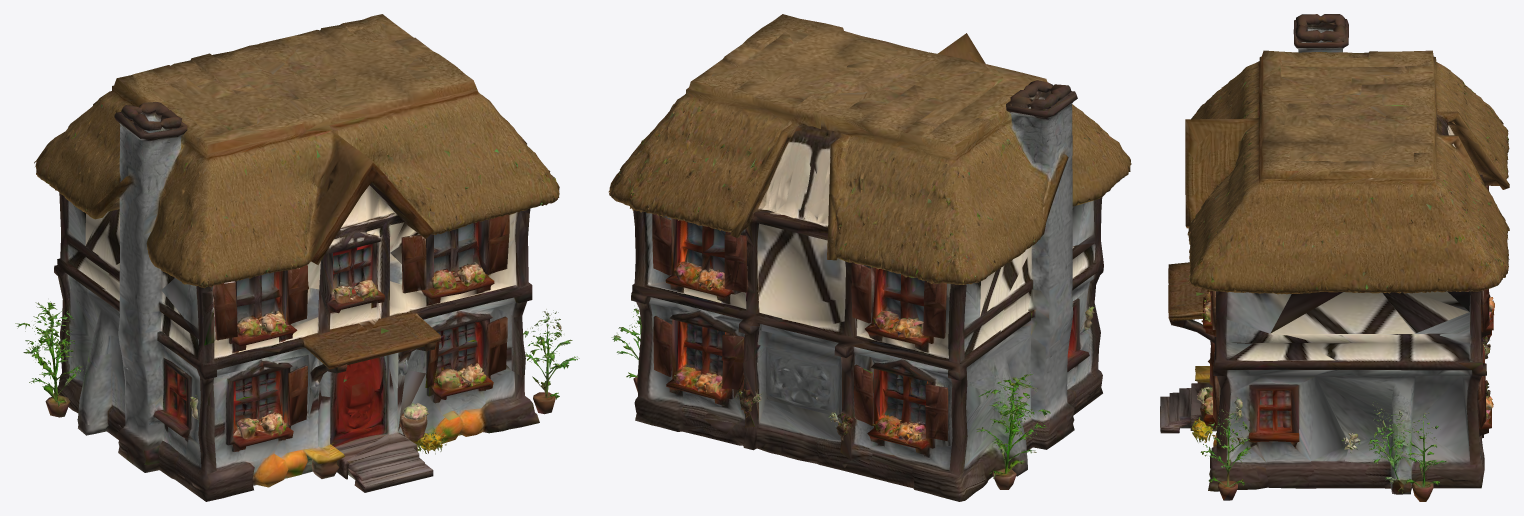
Rendered from Rpg_house.glb.
3 renders of one model, left to right at view 1: azimuth 30°, elevation 25°; view 2: azimuth 150°, elevation 25°; view 3: azimuth 270°, elevation 25°, orthographic. The views are drawn at different scales.
Visible parts, largest first — view 1: Rpg_house; view 2: Rpg_house; view 3: Rpg_house.
Part boxes in pixels (left/top/right/bottom): Rpg_house: left=15, top=14, right=579, bottom=501; Rpg_house: left=608, top=14, right=1131, bottom=501; Rpg_house: left=1160, top=14, right=1509, bottom=501.
Bounding box in the file's own units: 1.89 × 1.46 × 1.42.
1 material, 1 textured.
